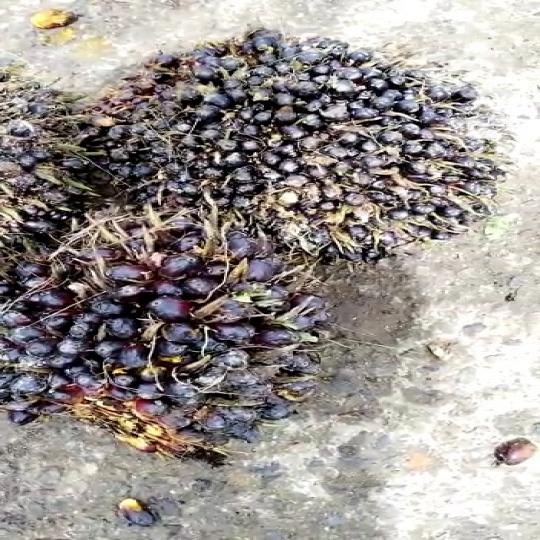mentah: (84, 21, 530, 259), (0, 196, 319, 452)
